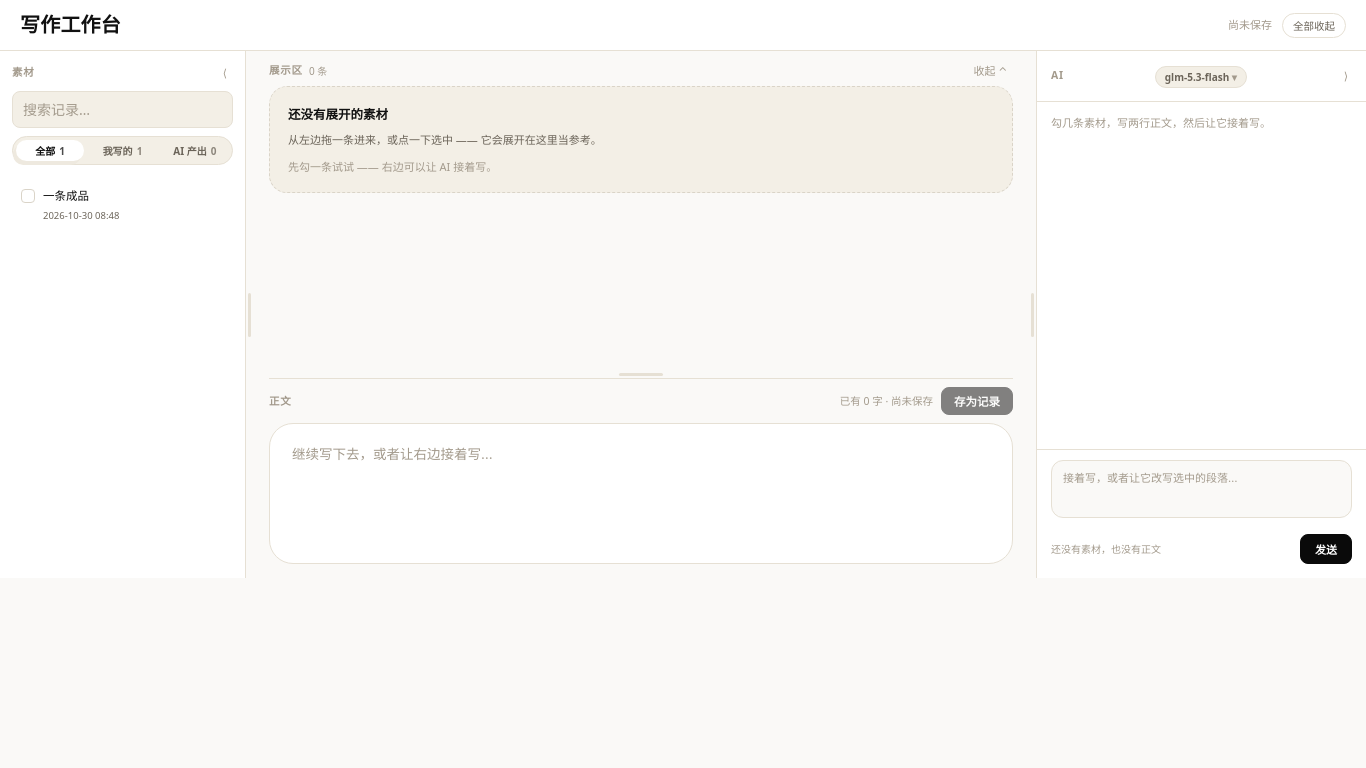
P5 存为记录 › 展示区里选中的成品卡带「成品」角标
Click the button "一条成品 2026-10-30 08:48" at (122, 205), box [10,177,235,232]
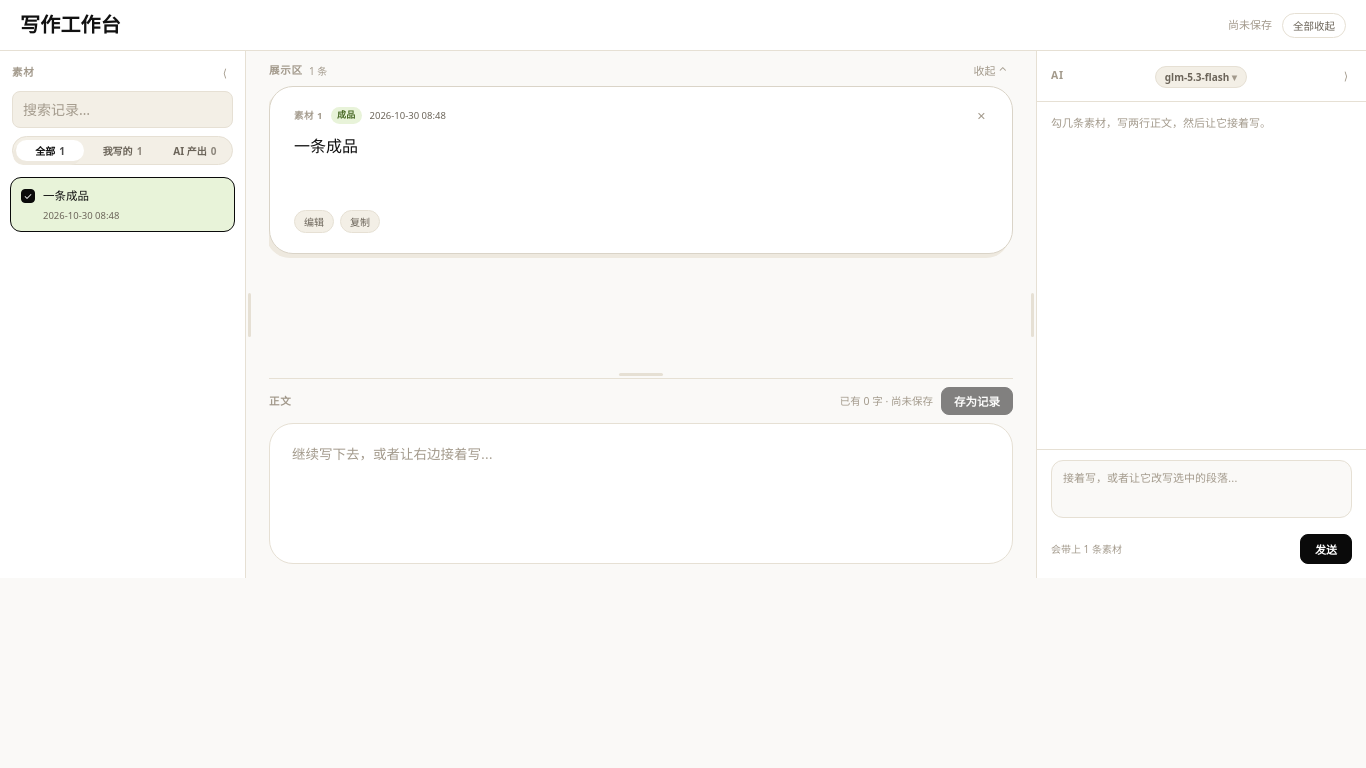
Result: the text "成品" is shown at [331,107,362,124]
